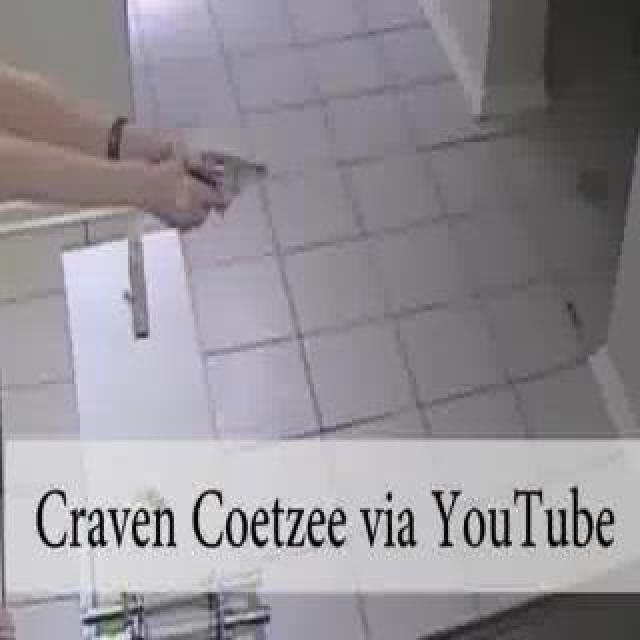Guns: (172, 138, 283, 217)
